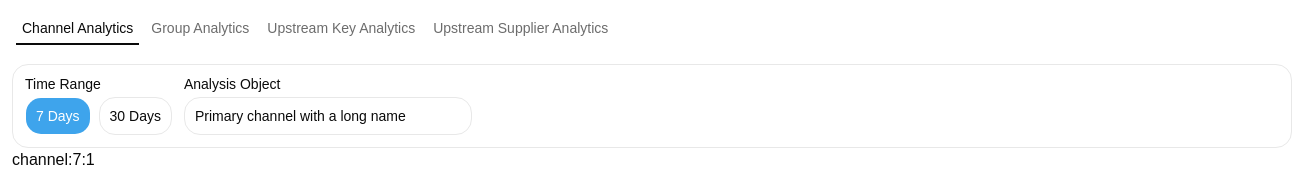
Test case: overview filters › changing the dimension clears its object while preserving the selected time range
Click the button "30 Days": (135, 116) [99,97,172,135]
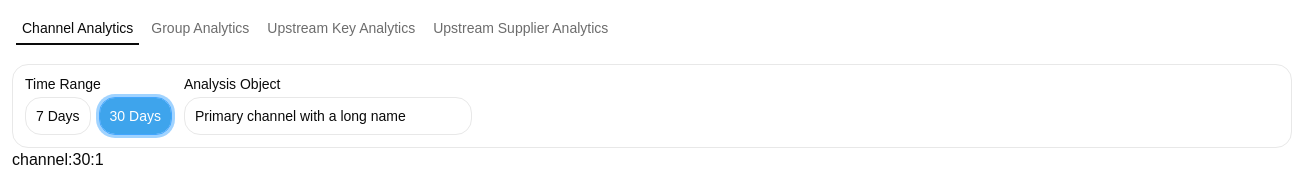
Check: the button "30 Days" is pressed, box [99,97,172,135]
Click the tab "Upstream Key Analytics": (341, 28) [260,16,422,40]
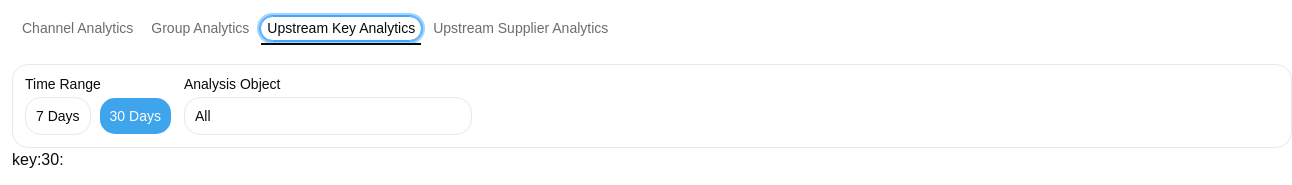
Check: the text named "Applied filters" reads "key:30:", box [12,151,64,168]
Check: the dropdown labelled "Analysis Object" holds "All", box [185,100,444,132]
